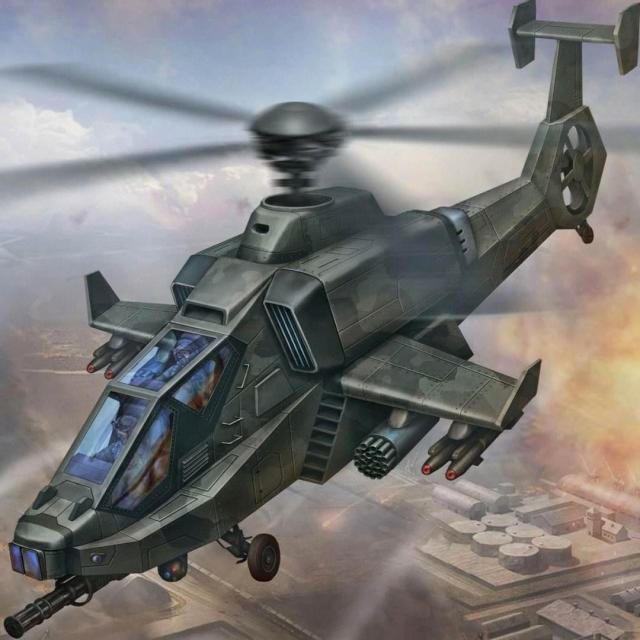MIL_HELO: (0, 9, 639, 633)
